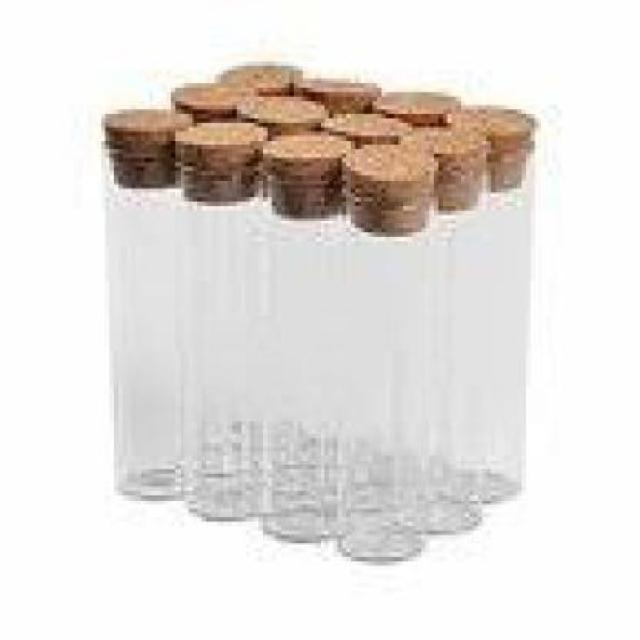kaca: (171, 158, 263, 517), (258, 180, 342, 538), (334, 210, 417, 562), (100, 144, 180, 496), (421, 197, 474, 526), (478, 158, 522, 496)
